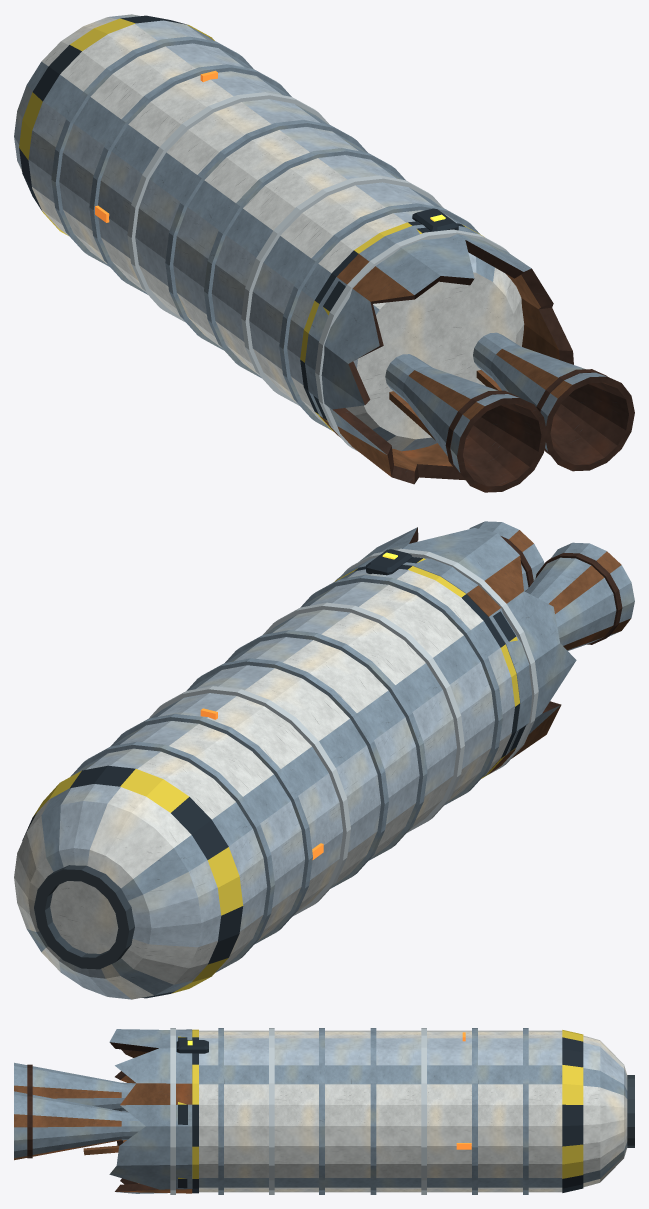
The model's file is rocket_stage_hulk.glb.
3 renders of one model, top to bottom at view 1: azimuth 30°, elevation 25°; view 2: azimuth 150°, elevation 25°; view 3: azimuth 270°, elevation 25°, orthographic. The views are drawn at different scales.
Parts seen in each view (by area): view 1: Hull; view 2: Hull; view 3: Hull.
Part boxes in pixels (x1,y1,x2,y2): Hull: [14, 14, 634, 492]; Hull: [14, 521, 634, 999]; Hull: [14, 1028, 634, 1194].
Size of the model in its own units: 6 by 6 by 22.
11 materials, 5 textured.
